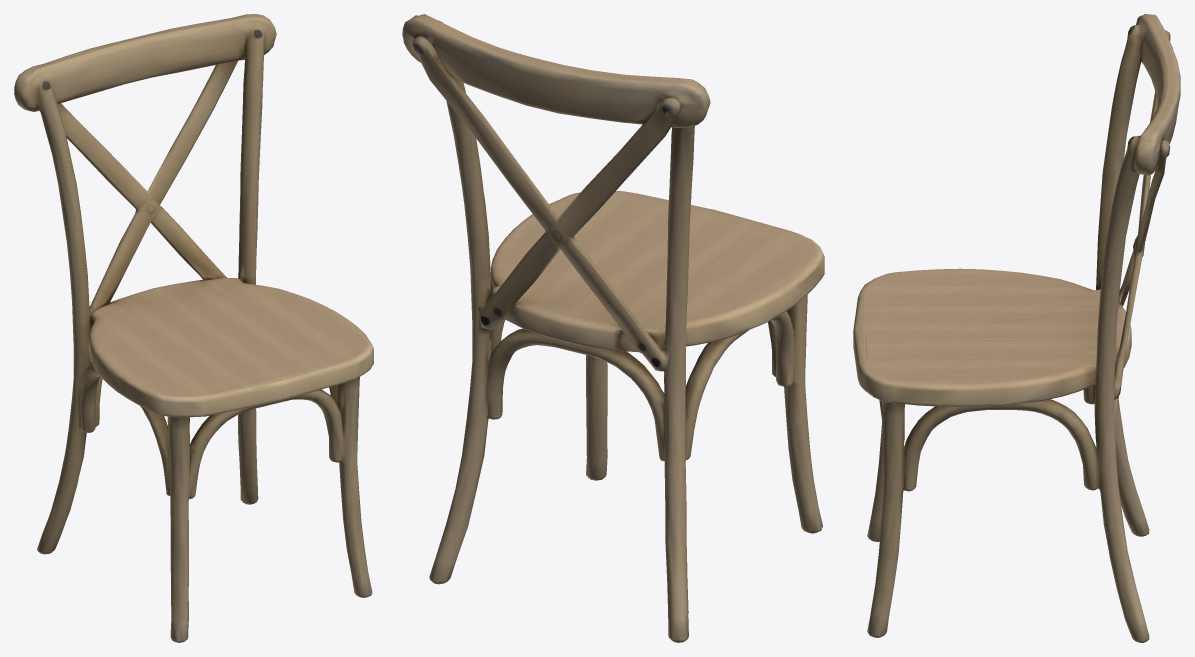
File: Crossback_Blond_Oak_Chair_35InchesTall_0208184957_texture.glb
3 views of the same model, side by side, from view 1: azimuth 30°, elevation 25°; view 2: azimuth 150°, elevation 25°; view 3: azimuth 270°, elevation 25° (orthographic). The views are drawn at different scales.
Parts seen in each view (by area): view 1: Mesh_0; view 2: Mesh_0; view 3: Mesh_0.
Boxes of the visible parts, x1=… form: Mesh_0: x1=14, y1=14, x2=373, y2=642; Mesh_0: x1=402, y1=14, x2=824, y2=642; Mesh_0: x1=853, y1=14, x2=1180, y2=642.
Size of the model in its own units: 0.4984 by 0.889 by 0.513.
Materials: 1 (1 with a texture image).
